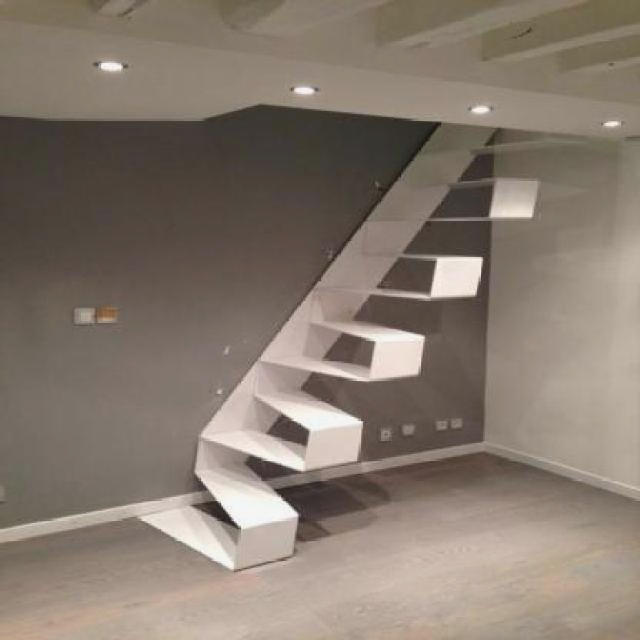stair: (135, 121, 551, 582)
